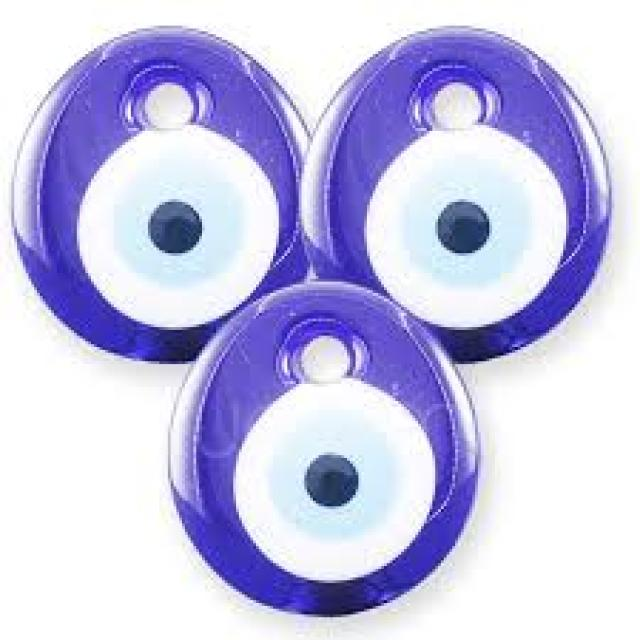Nazar-Boncugu: (11, 23, 614, 620)
